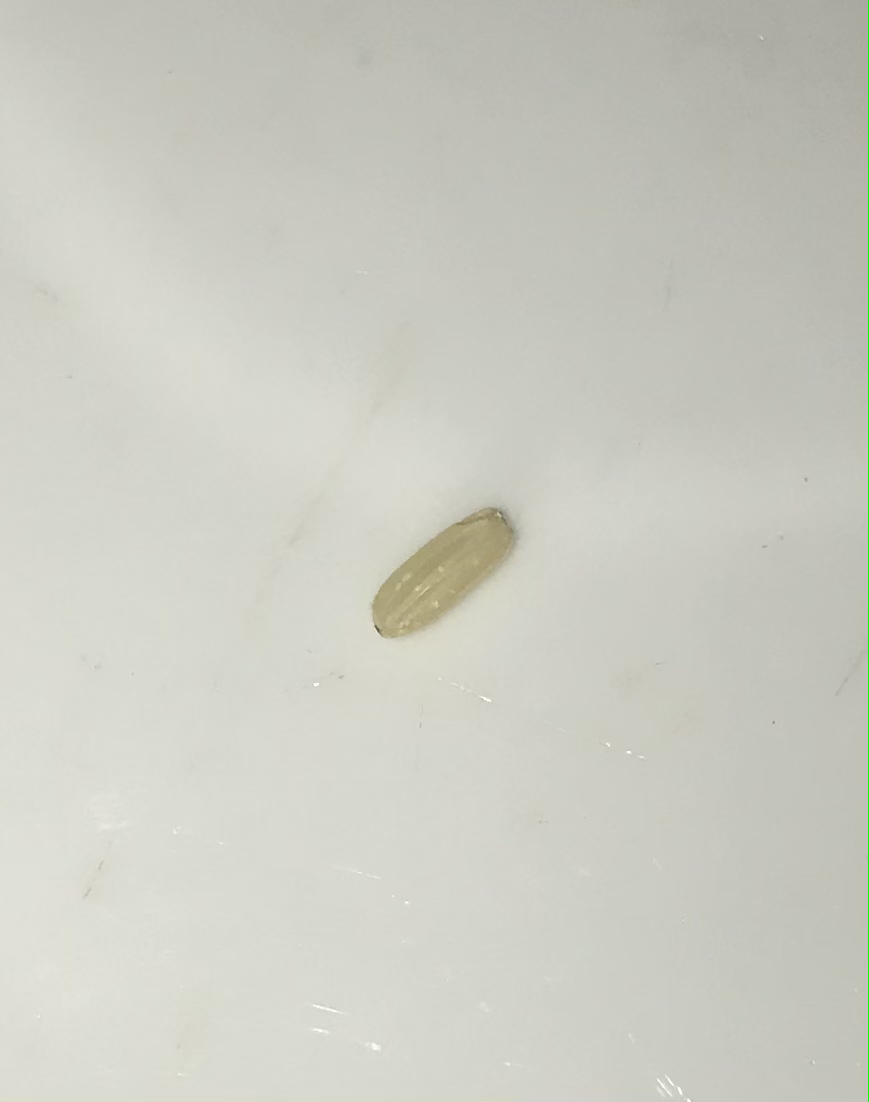Gao Lut Trang: (354, 497, 532, 668)
